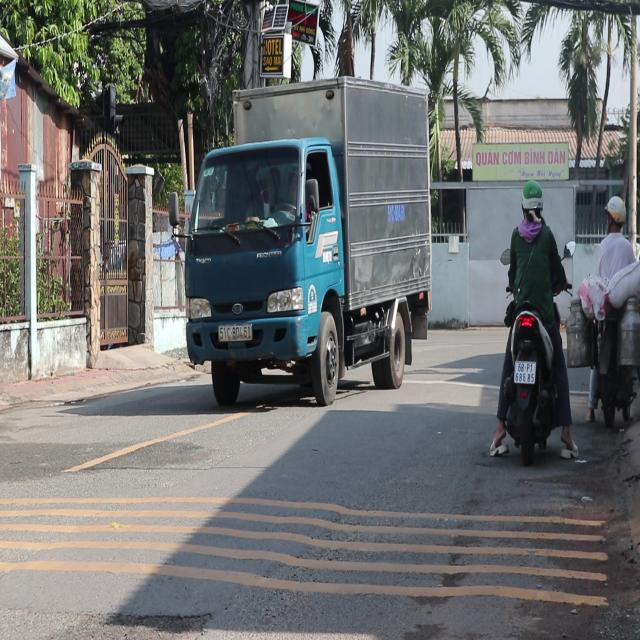helmet: (519, 178, 543, 220), (605, 193, 626, 230)
licenseplate: (493, 177, 572, 460), (588, 192, 639, 426)
nohelmet: (514, 360, 534, 382)
